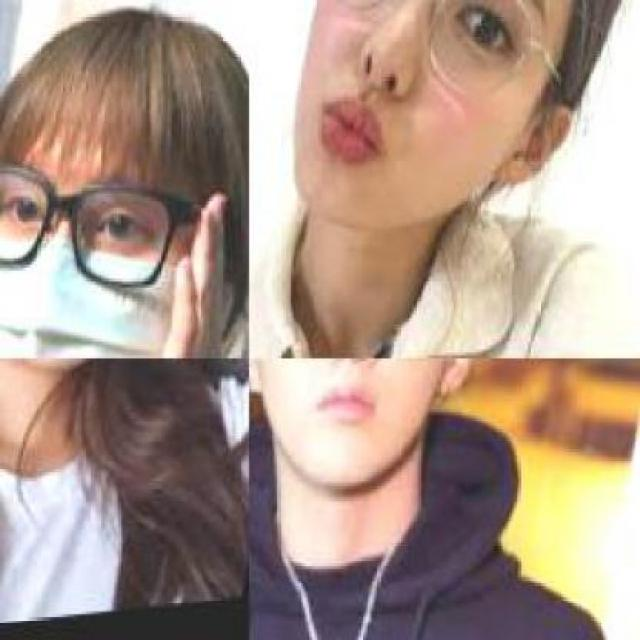glasses: (286, 0, 600, 151), (0, 139, 209, 294)
